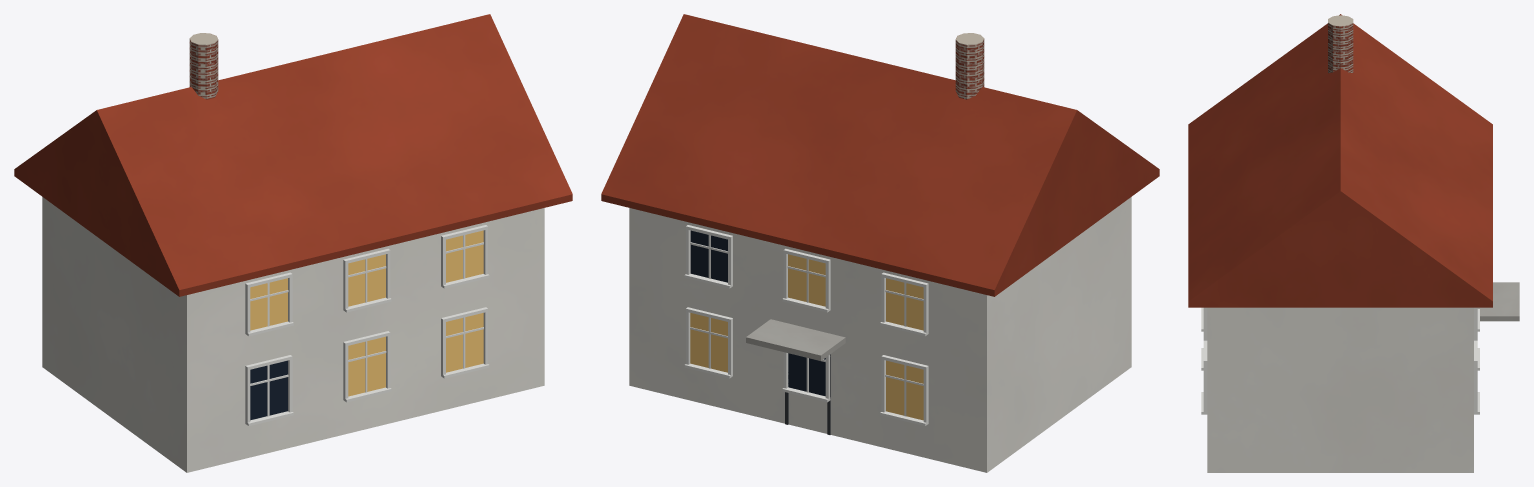
The model's file is pv_statek.glb.
3 renders of one model, left to right at view 1: azimuth 30°, elevation 25°; view 2: azimuth 150°, elevation 25°; view 3: azimuth 270°, elevation 25°, orthographic. The views are drawn at different scales.
Visible parts, largest first — view 1: dum, noc; view 2: dum, noc; view 3: dum.
Part boxes in pixels (left/top/right/bottom): dum: left=14, top=14, right=572, bottom=472; noc: left=250, top=230, right=483, bottom=396; dum: left=601, top=14, right=1159, bottom=472; noc: left=690, top=254, right=923, bottom=420; dum: left=1188, top=14, right=1519, bottom=472.
Size of the model in its own units: 10.97 by 9.58 by 8.68.
1 material, 1 textured.
